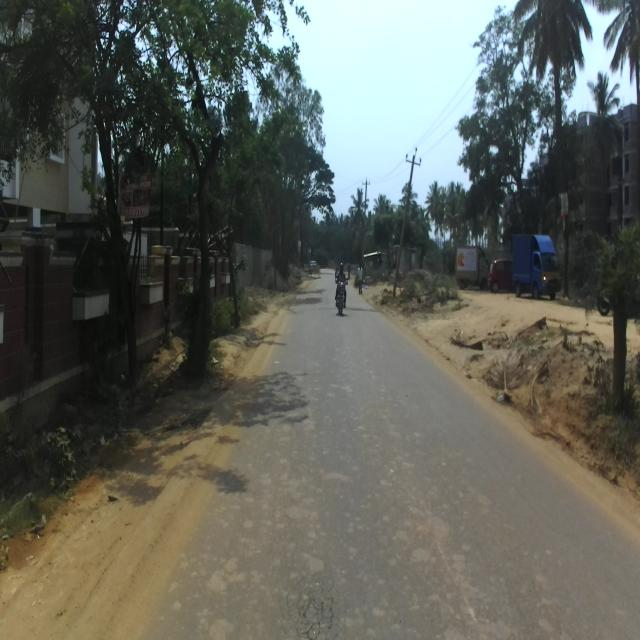tree ahead at: (94, 127, 158, 436), (187, 127, 229, 405)
